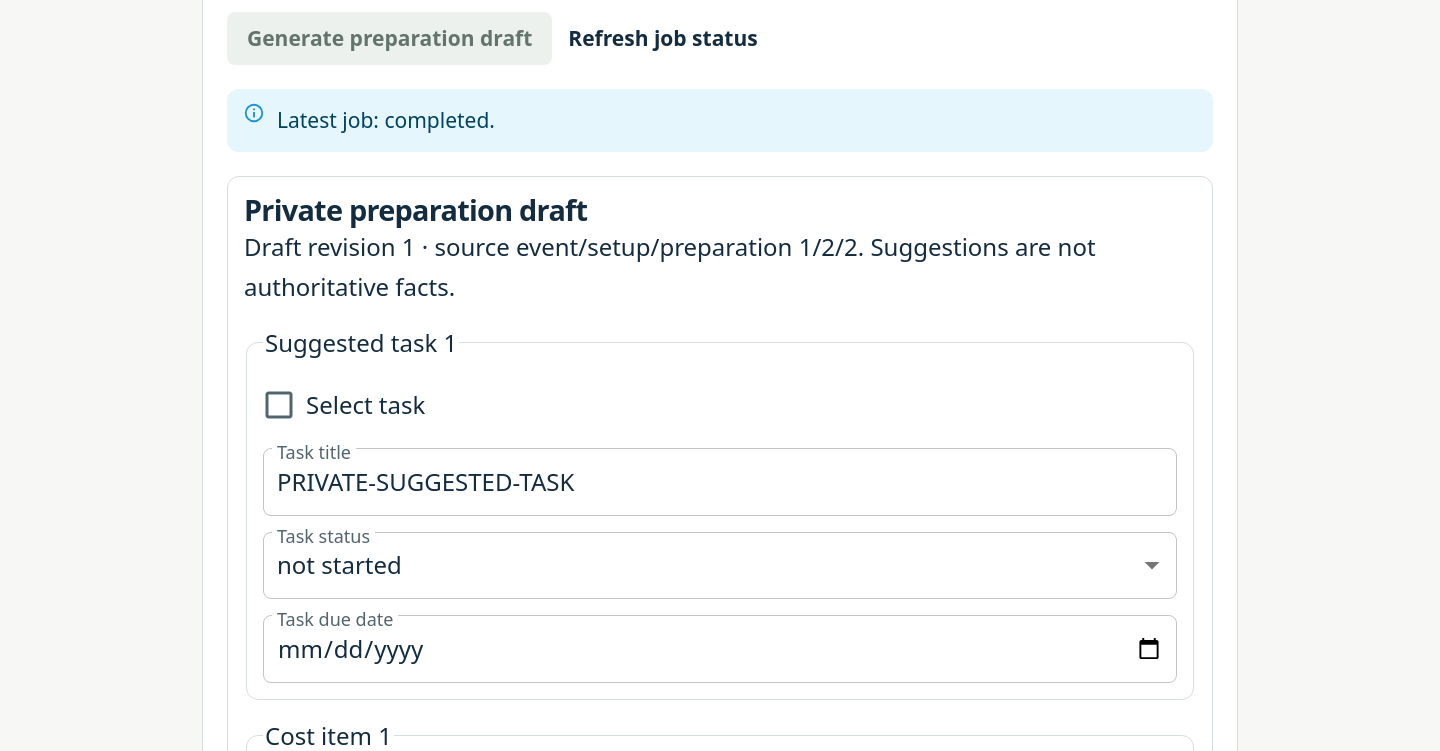
Test: UI02 confirmation rechecks actor immediately before execution and cannot use former-owner approval
(page scrolled)
Expected: the button "Generate preparation draft" is shown, [227,12,552,65]
Expected: the field showing "PRIVATE-SUGGESTED-TASK" is shown, [263,448,1177,516]
Step 1. Click the checkbox labelled "Select task" → (343, 405), box [261,387,425,423]
(page scrolled)
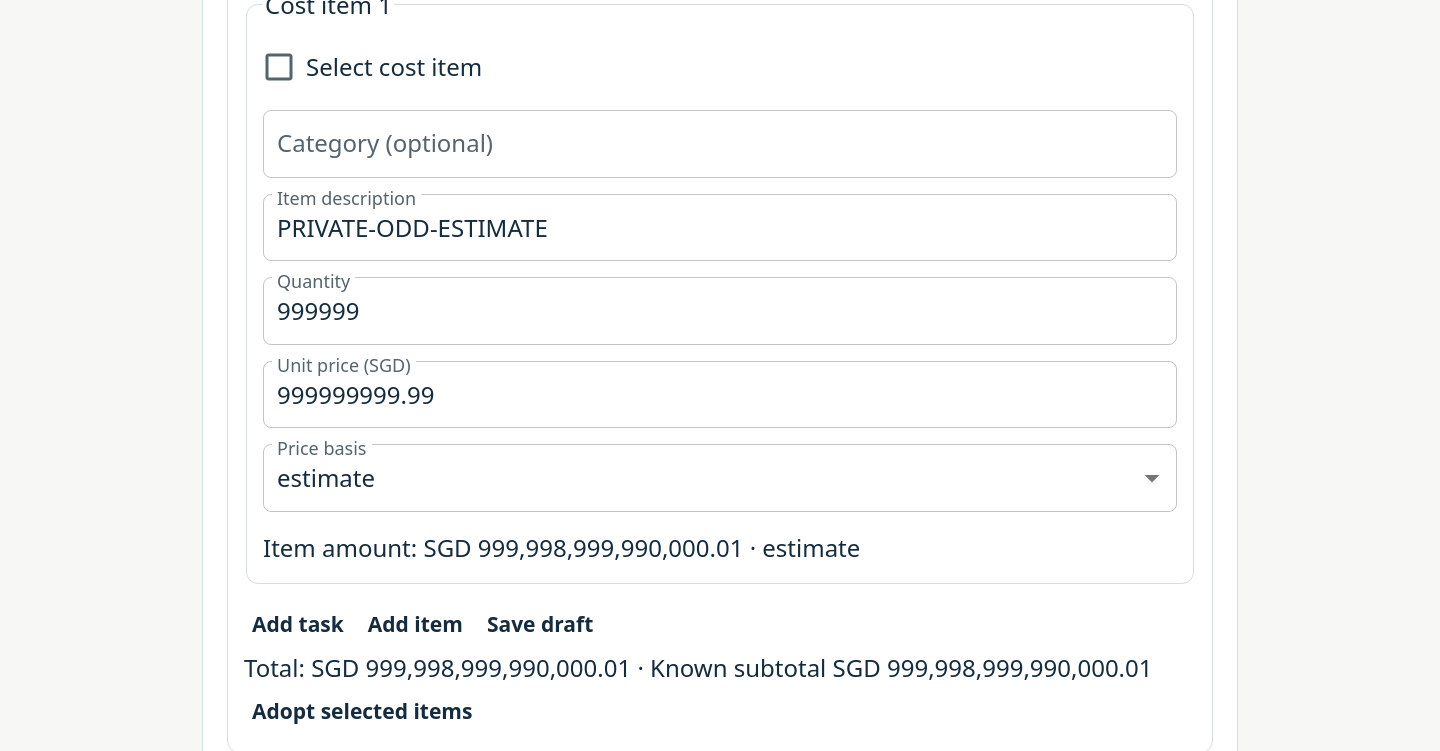
Step 2. Click the button "Adopt selected items" → (362, 712), box [244,688,480,736]
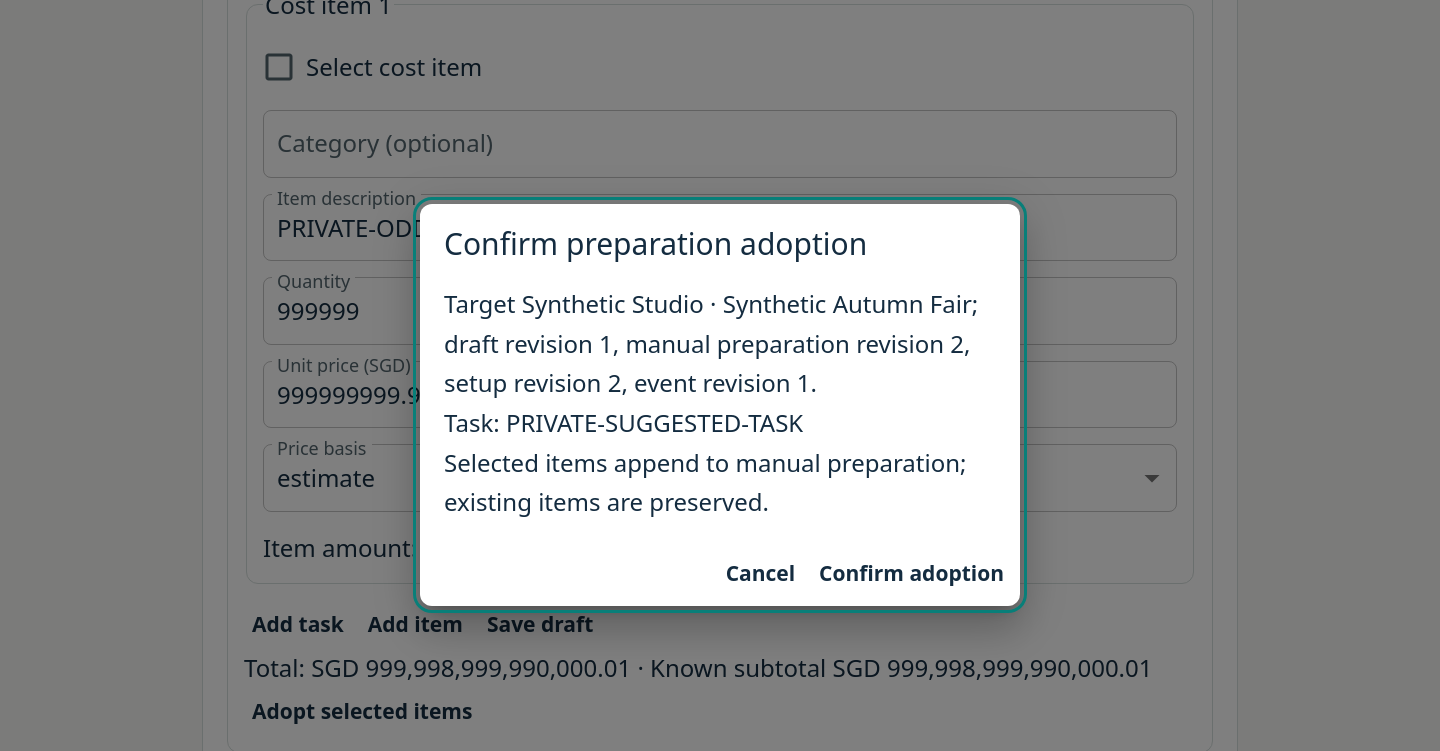
Step 3. Click the button "Confirm adoption" → (912, 574), box [811,550,1012,598]
(page scrolled)
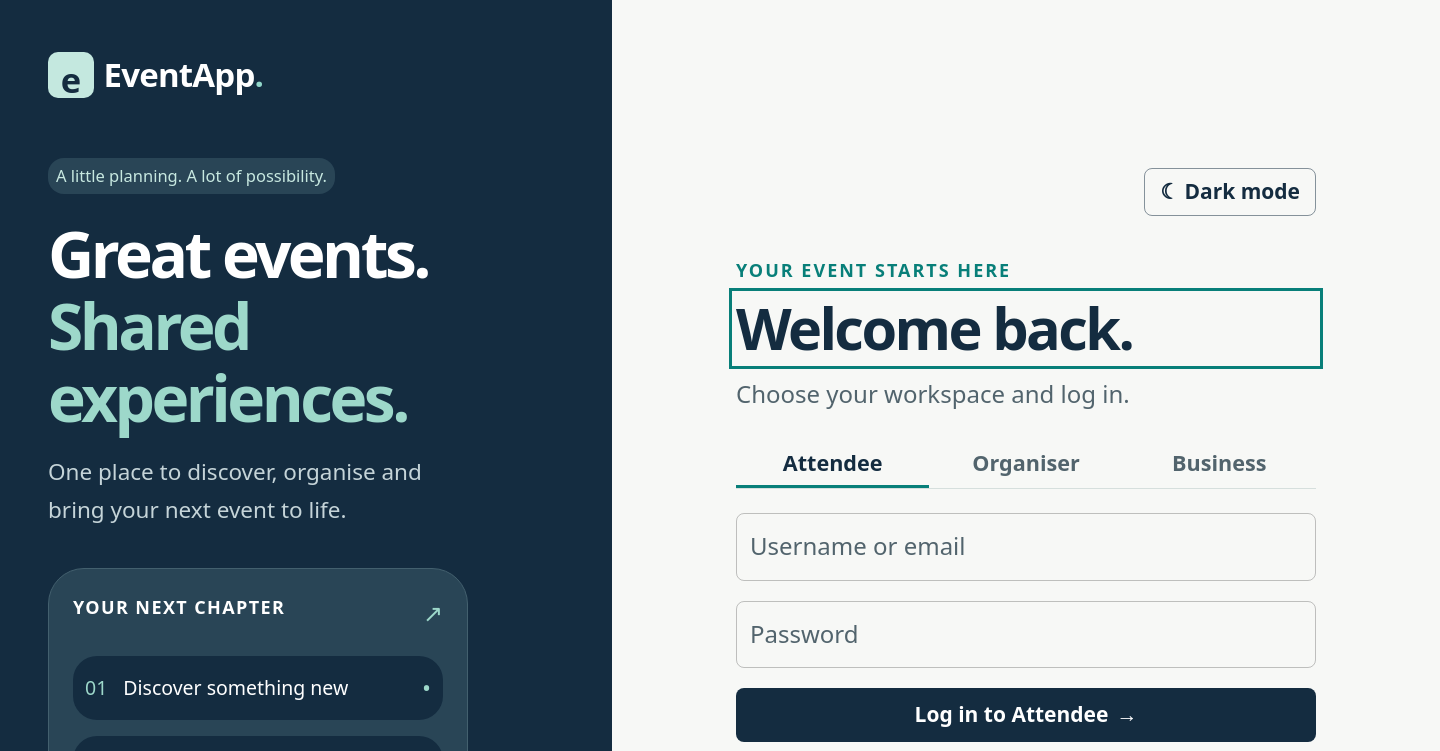
Now the dialog is gone
Now the text showing "PRIVATE-SUGGESTED-TASK" is gone
